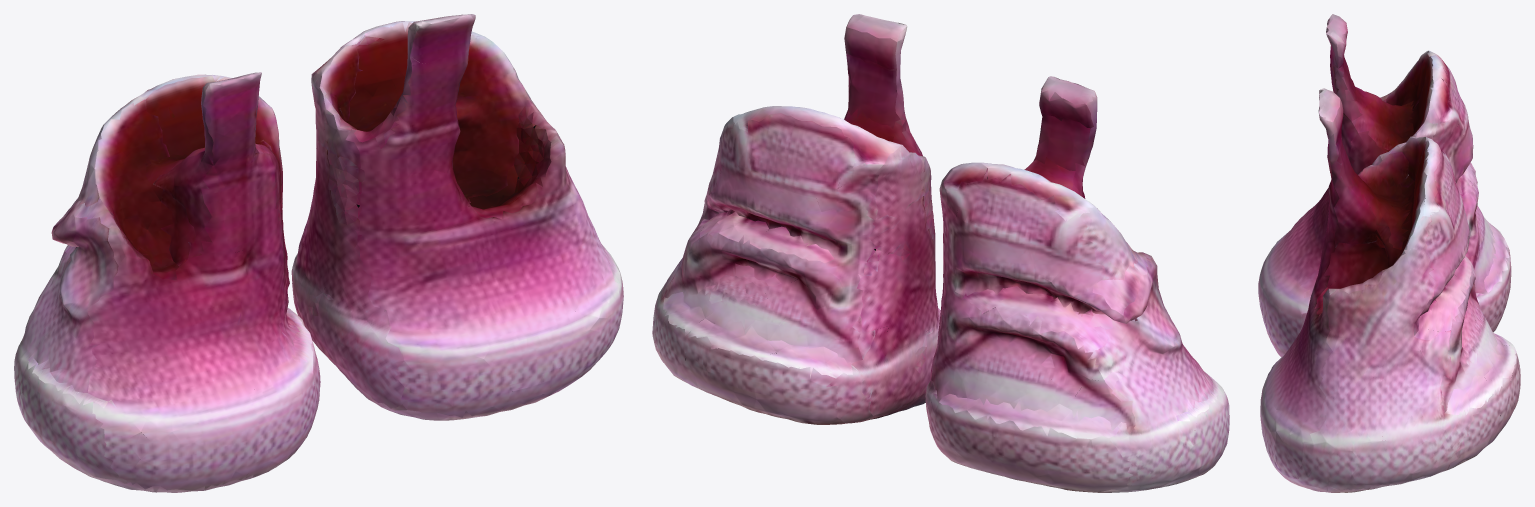
File: result.gltf
3 renders of one model, left to right at view 1: azimuth 30°, elevation 25°; view 2: azimuth 150°, elevation 25°; view 3: azimuth 270°, elevation 25°, orthographic. The views are drawn at different scales.
Parts seen in each view (by area): view 1: world; view 2: world; view 3: world.
Boxes of the visible parts, left/top/right/bottom form: world: left=14, top=14, right=623, bottom=492; world: left=652, top=14, right=1229, bottom=492; world: left=1258, top=14, right=1520, bottom=492.
Bounding box in the file's own units: 1 × 0.6649 × 0.4545.
1 material, 1 textured.
